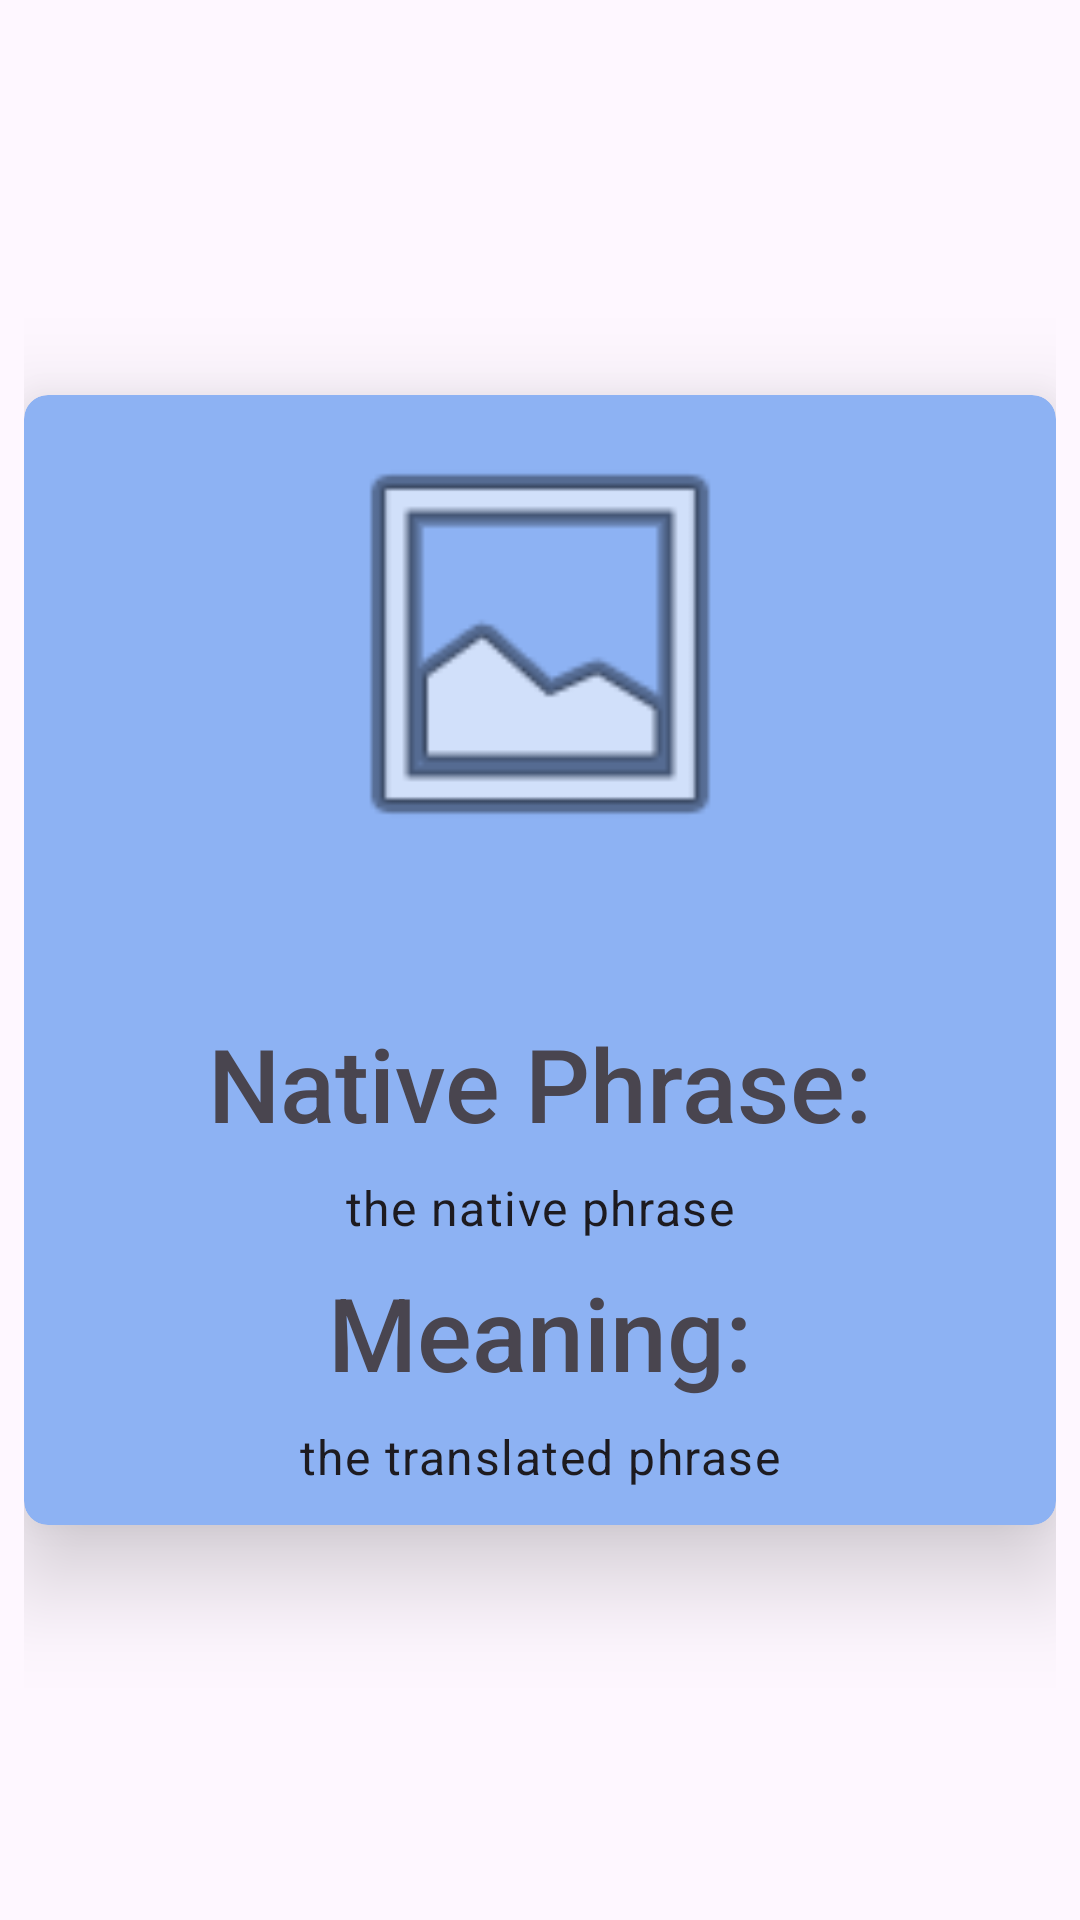

Named icons in this screenshot (1080*1920) and their centers, (x,y):
gallery: (540,644)
